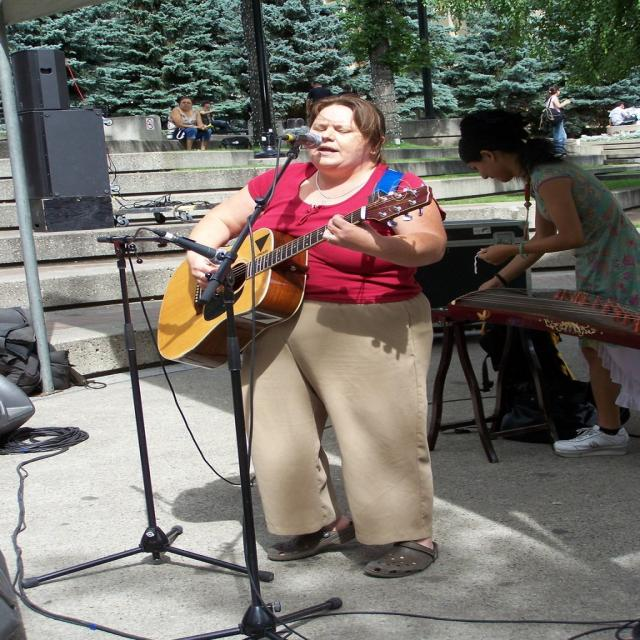guitar: (156, 184, 436, 372)
